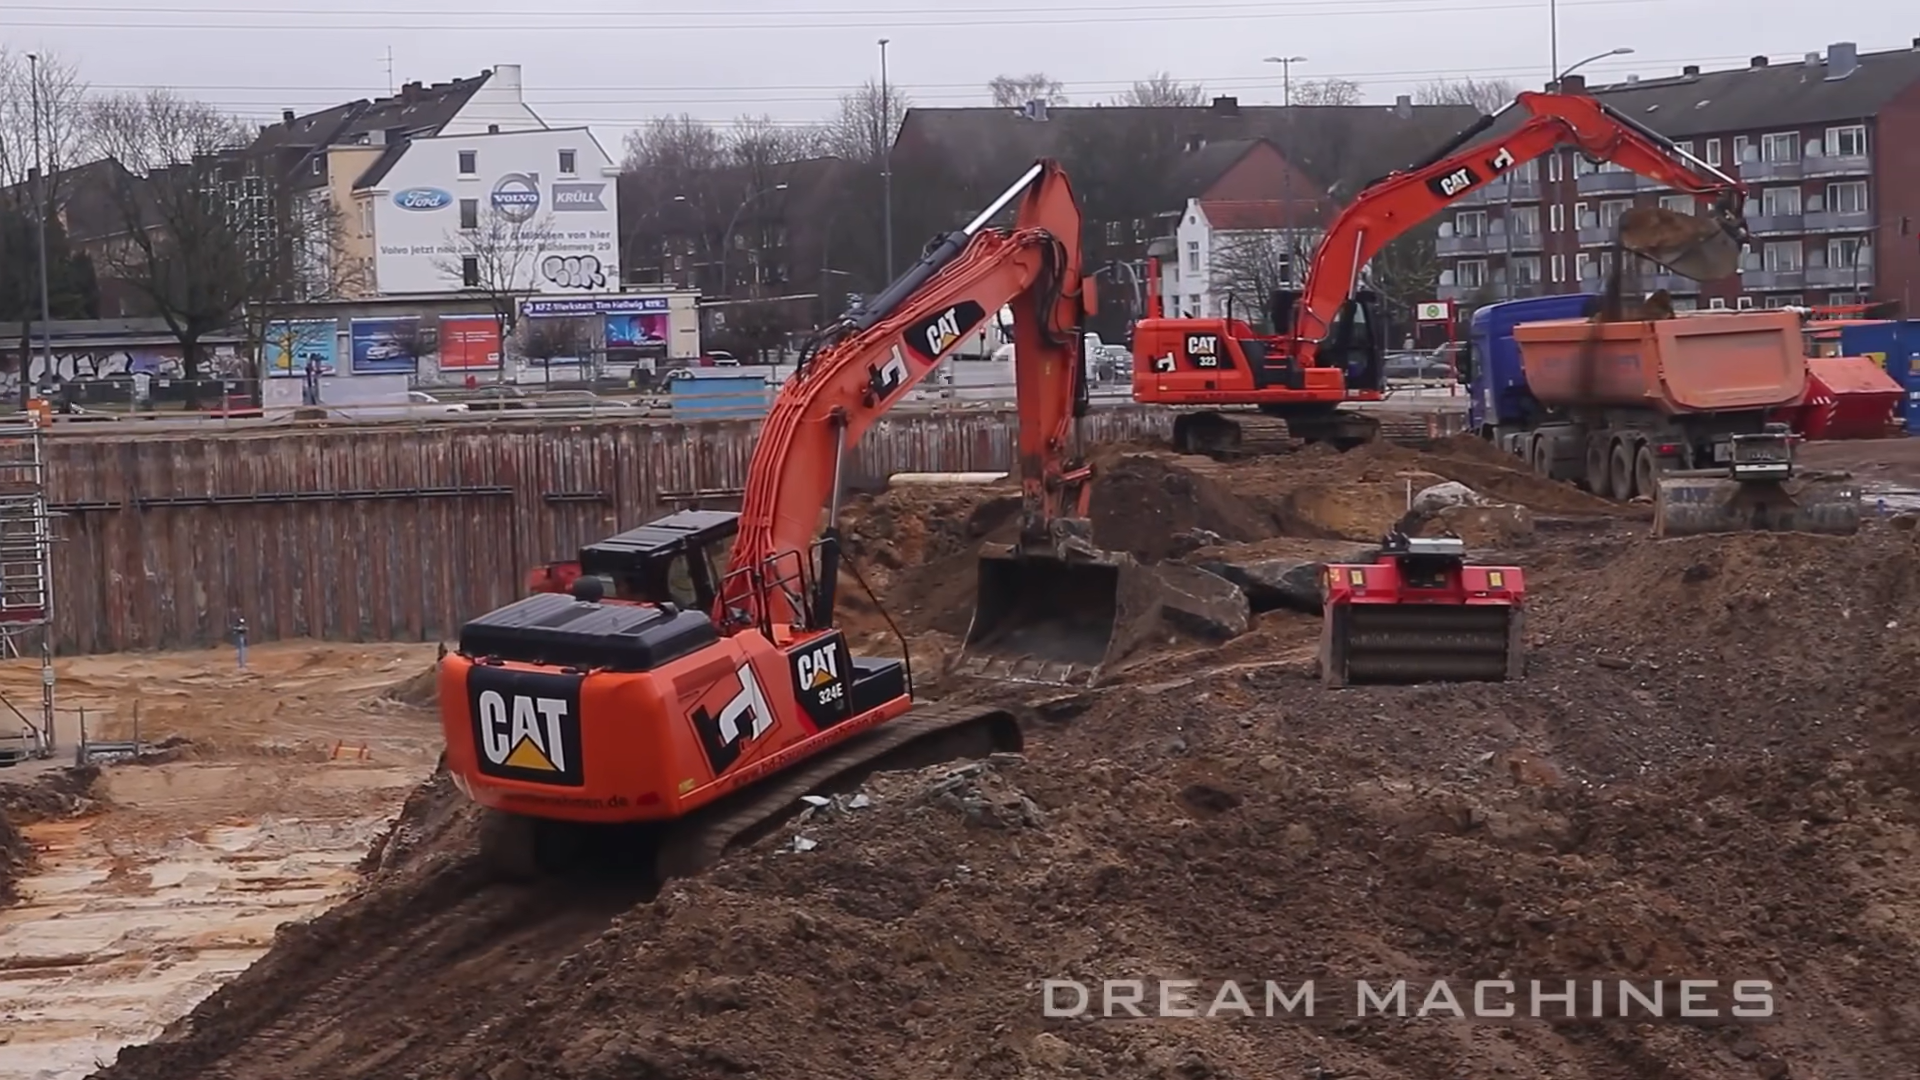excavator: (451, 142, 1171, 909), (1120, 75, 1797, 421)
